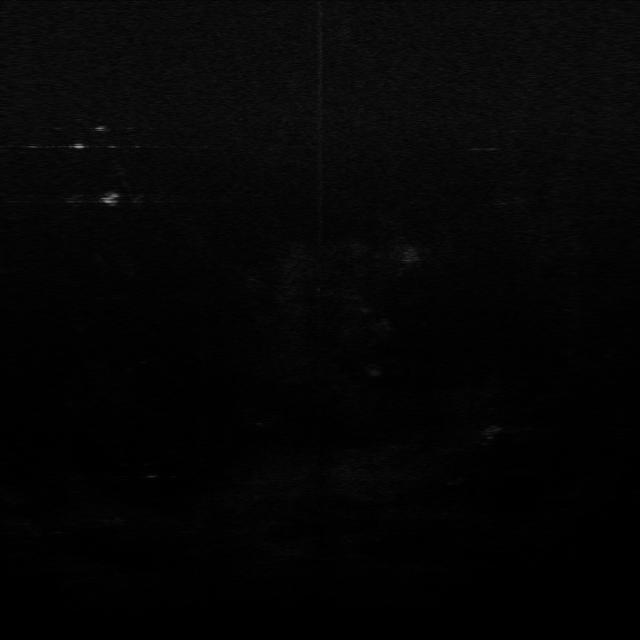rov: (94, 189, 132, 209)
